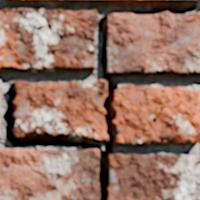brick: (0, 9, 98, 71), (105, 13, 199, 75), (0, 149, 98, 199), (106, 154, 199, 199), (8, 0, 193, 4), (0, 81, 1, 120)
broken_brick: (12, 78, 106, 142), (114, 83, 199, 146)
crack: (2, 0, 197, 199)
